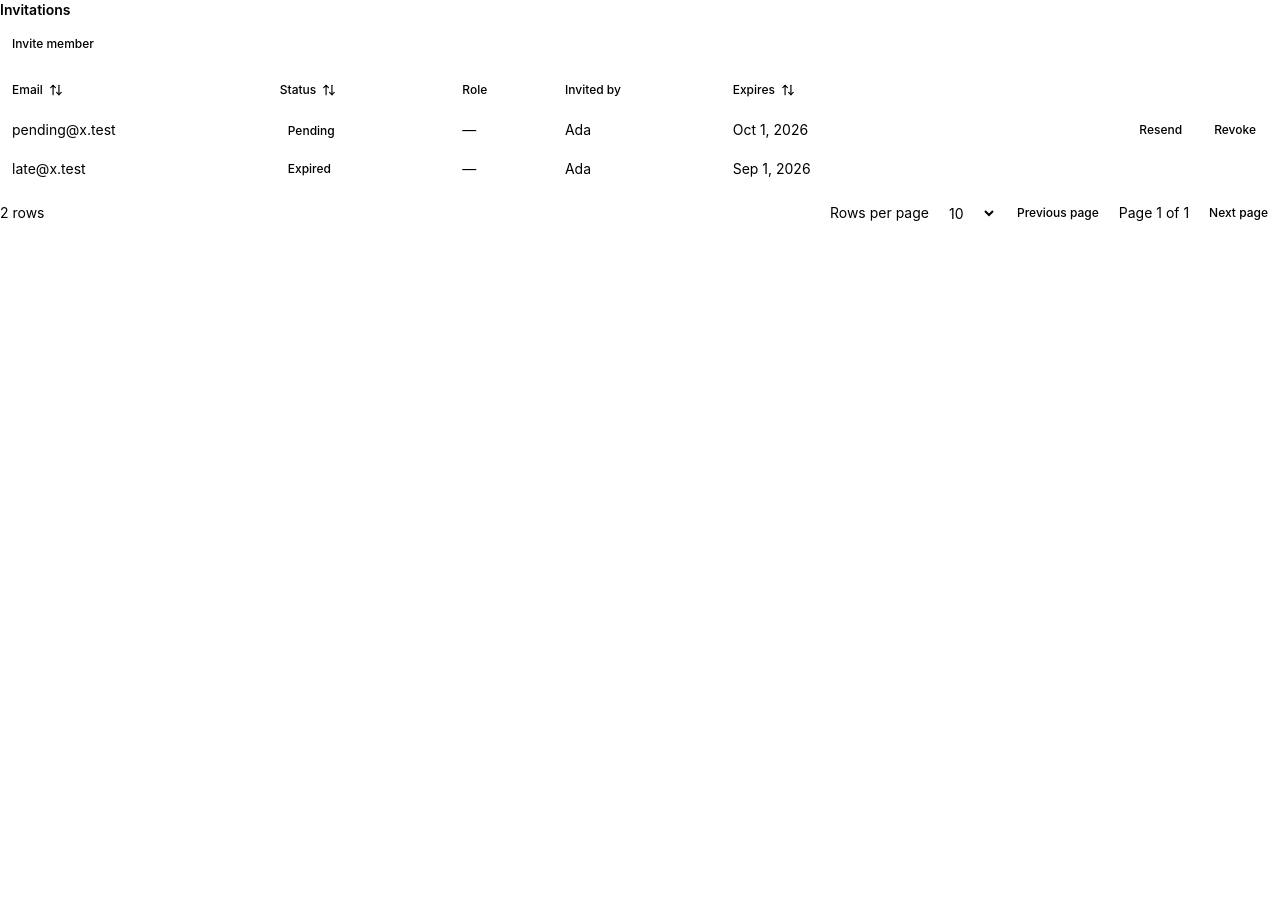
Scenario: Invite: refusals are named (F-156) › 429 rate_limited says to slow down
Expected: the text "pending@x.test" is shown, [0,108,268,152]
Click the button "Invite member" at (53, 44), box [0,28,106,60]
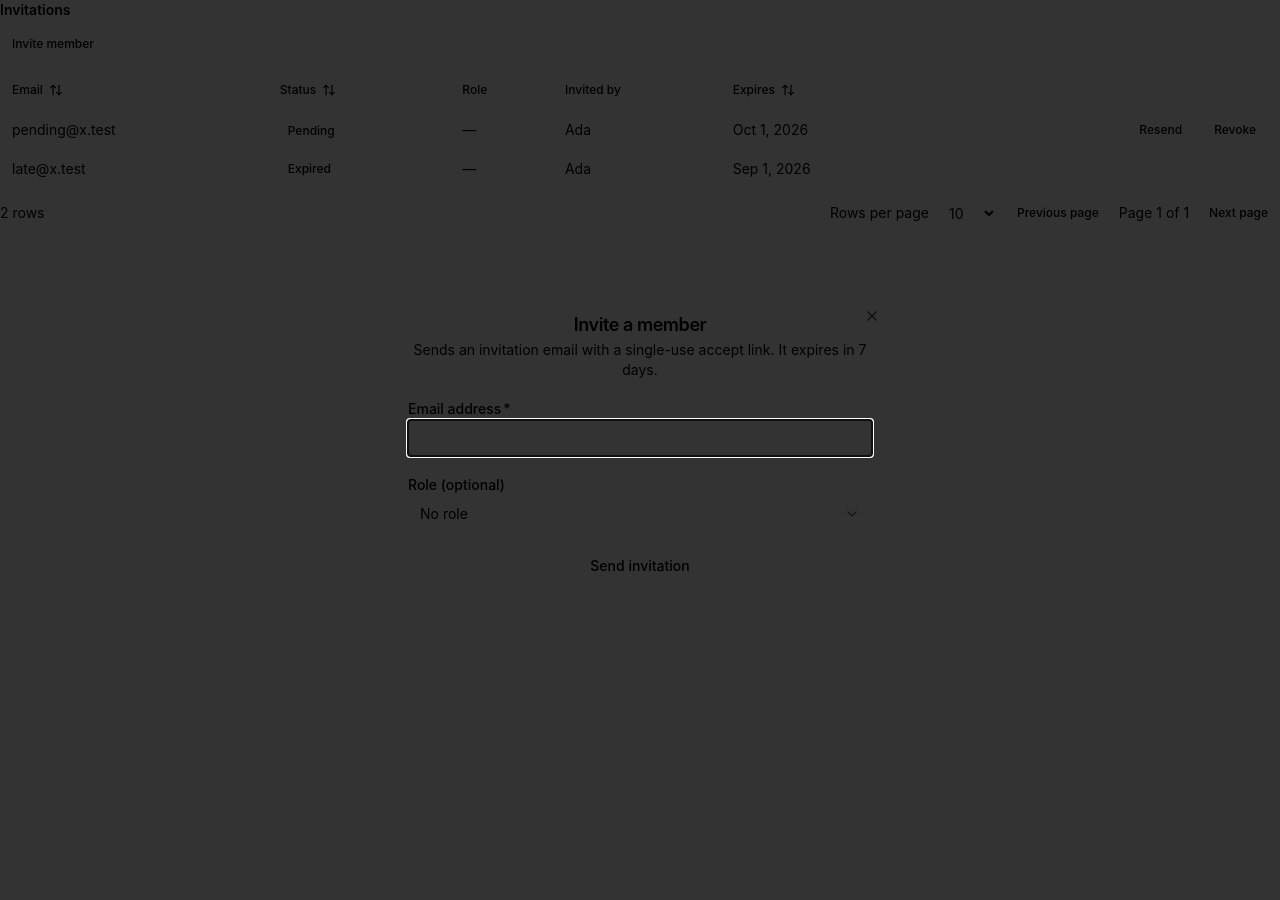
Type "new@x.test" into the field labelled "Email address*" at (640, 438), box [408,420,872,456]
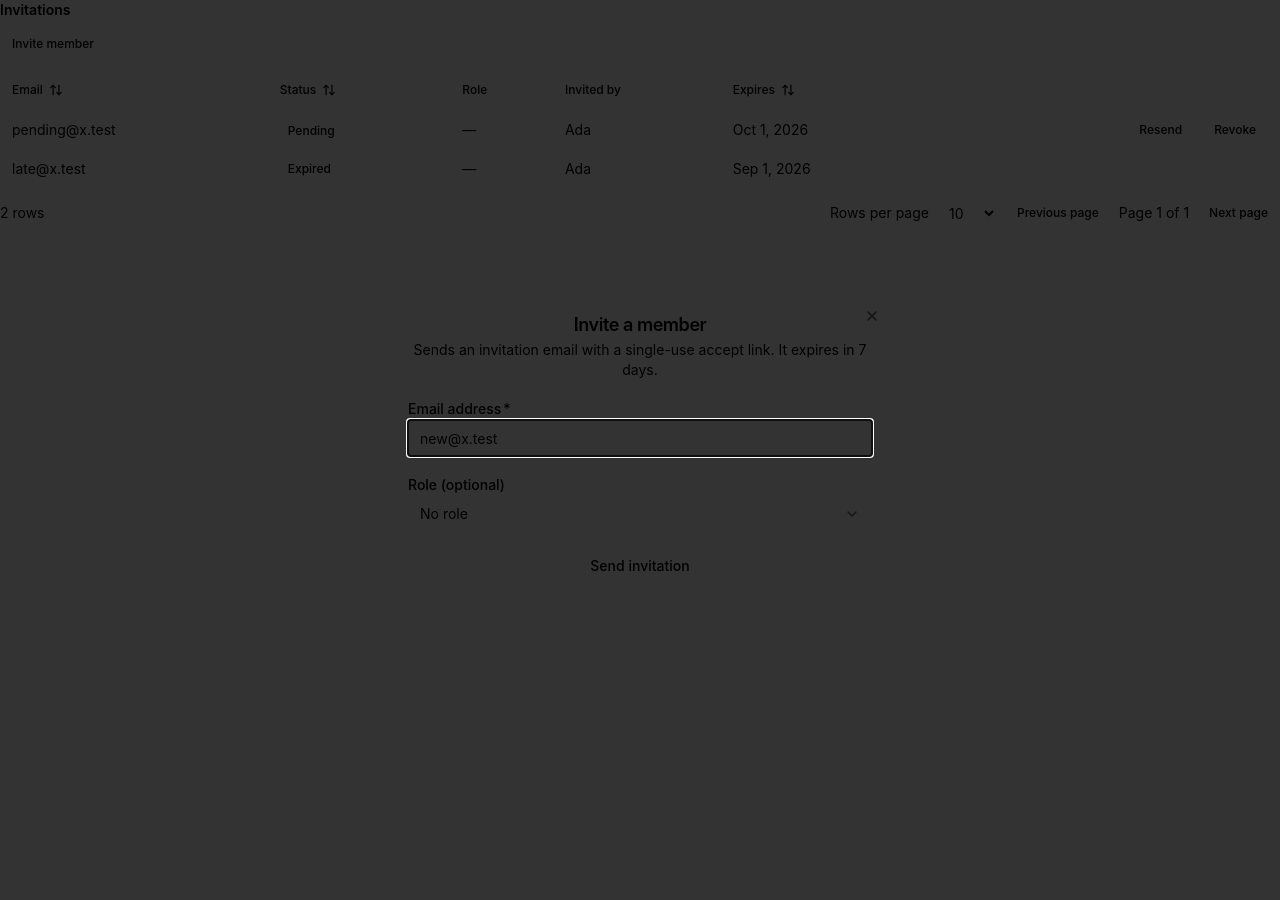
Click the button "Send invitation" at (640, 566), box [408,548,872,584]
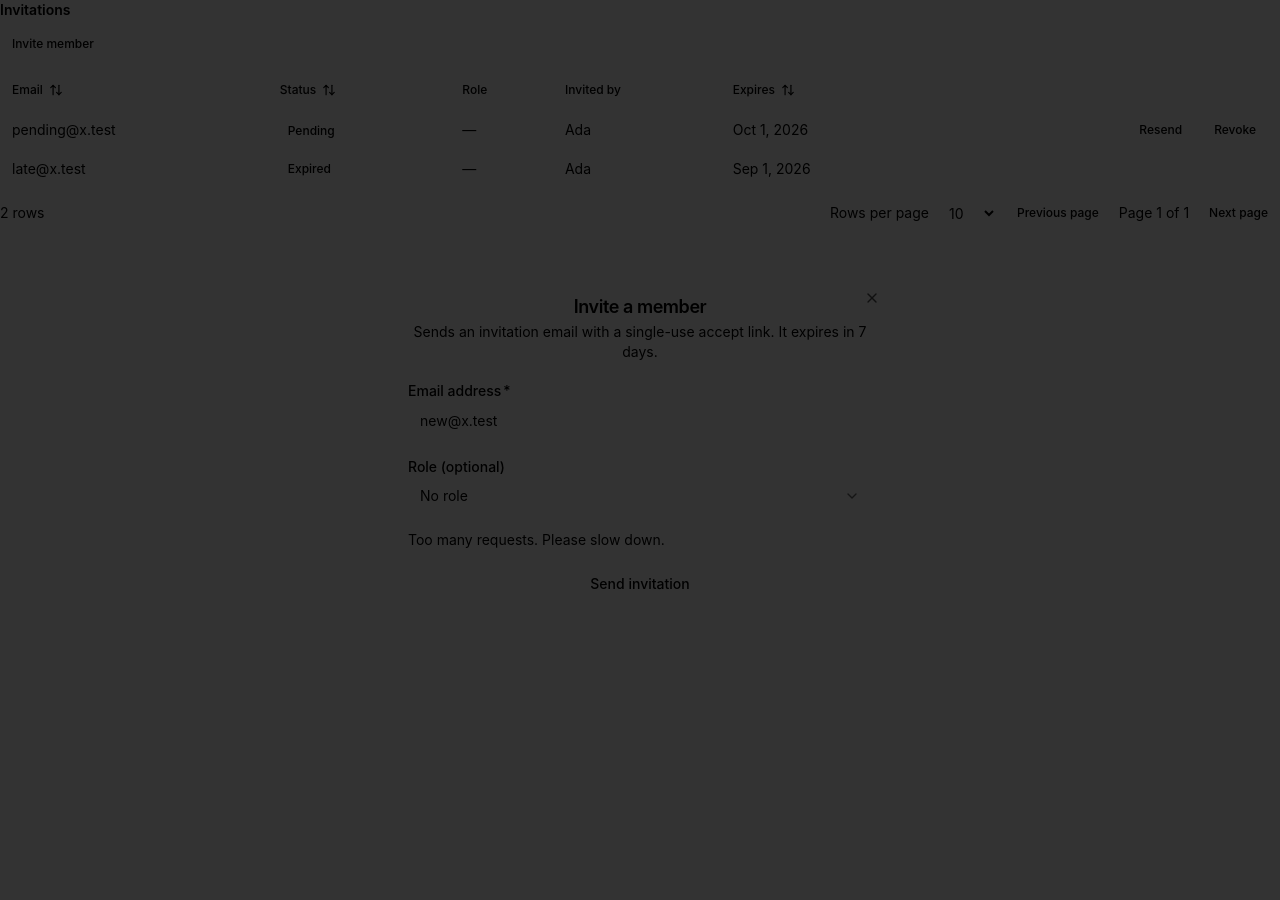
Now the message reads "Too many requests. Please slow down.", box [408,531,665,548]
